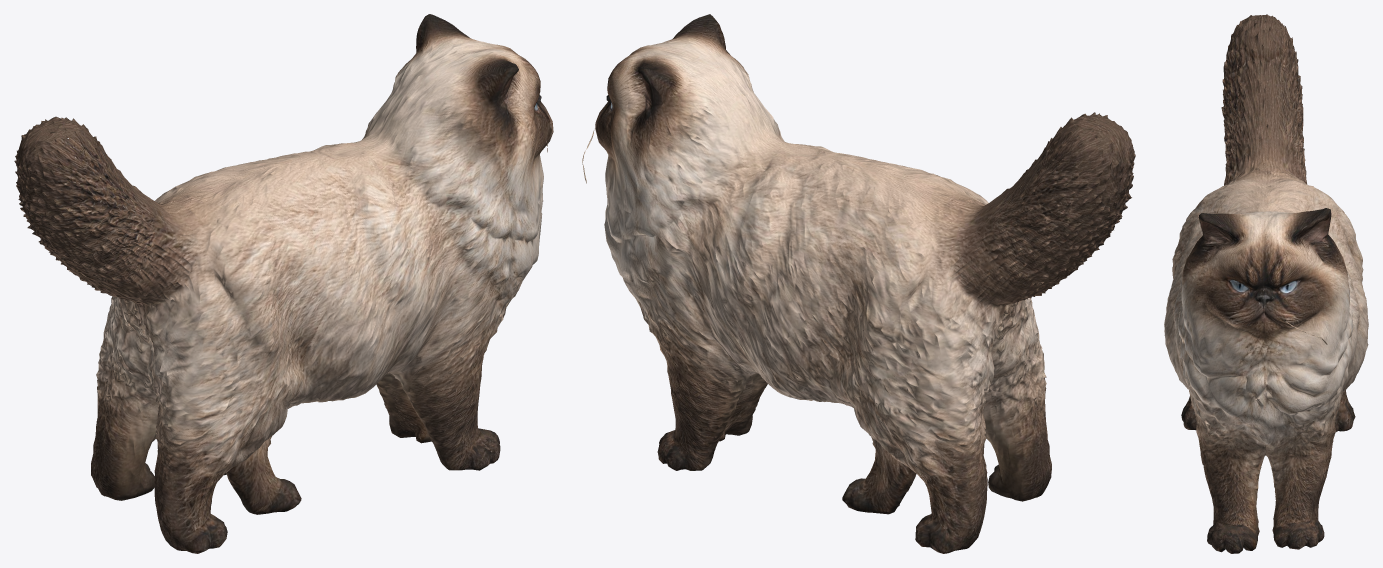
The model's file is MRJINX.glb.
3 renders of one model, left to right at view 1: azimuth 30°, elevation 25°; view 2: azimuth 150°, elevation 25°; view 3: azimuth 270°, elevation 25°, orthographic. The views are drawn at different scales.
Visible parts, largest first — view 1: tripo_node_fb637774-3107-4e98-a186-f912c8b497ff; view 2: tripo_node_fb637774-3107-4e98-a186-f912c8b497ff; view 3: tripo_node_fb637774-3107-4e98-a186-f912c8b497ff.
Boxes of the visible parts, box(x1,y1,x2,y2) form: tripo_node_fb637774-3107-4e98-a186-f912c8b497ff: box(14, 14, 553, 553); tripo_node_fb637774-3107-4e98-a186-f912c8b497ff: box(582, 14, 1135, 553); tripo_node_fb637774-3107-4e98-a186-f912c8b497ff: box(1164, 14, 1368, 553).
Size of the model in its own units: 1.29 by 0.9994 by 0.5076.
Materials: 1 (1 with a texture image).
